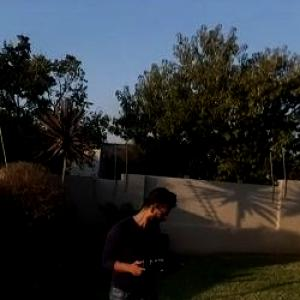follow: (97, 184, 180, 298)
